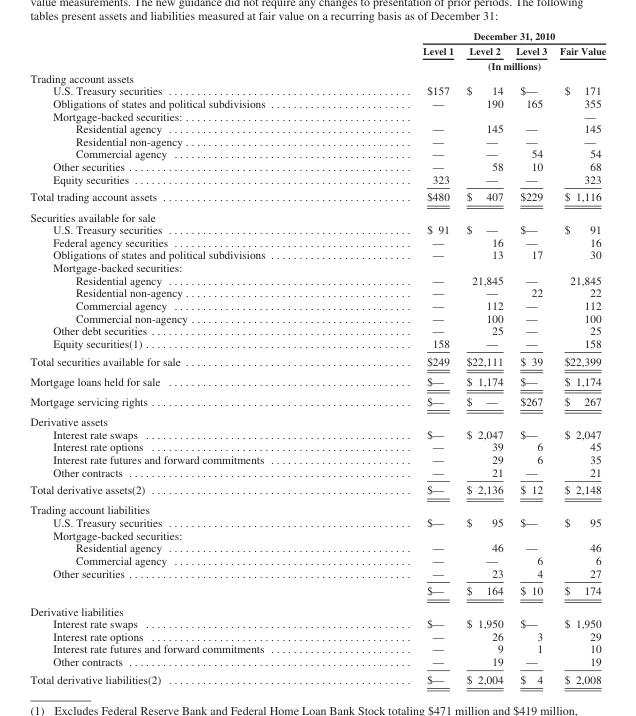table: (29, 29, 605, 685)
table column: (29, 29, 343, 685), (343, 29, 459, 685), (552, 29, 605, 685), (459, 29, 508, 685), (508, 29, 552, 685)
table column header: (29, 29, 605, 71)
table projected row header: (29, 206, 605, 223), (29, 411, 605, 427), (29, 499, 605, 515), (29, 600, 605, 616), (29, 71, 605, 84), (29, 260, 605, 273), (29, 528, 605, 541)
table row: (29, 390, 605, 411), (29, 370, 605, 390), (29, 187, 605, 206), (29, 351, 605, 370), (29, 480, 605, 499), (29, 581, 605, 600), (29, 206, 605, 223), (29, 411, 605, 427), (29, 499, 605, 515), (29, 600, 605, 616), (29, 669, 605, 685), (29, 42, 605, 57), (29, 172, 605, 187), (29, 336, 605, 351), (29, 465, 605, 480), (29, 566, 605, 581), (29, 654, 605, 669), (29, 57, 605, 71), (29, 29, 605, 42), (29, 71, 605, 84), (29, 96, 605, 109), (29, 121, 605, 134), (29, 134, 605, 147), (29, 159, 605, 172), (29, 235, 605, 248), (29, 260, 605, 273), (29, 273, 605, 286), (29, 298, 605, 311), (29, 311, 605, 324), (29, 427, 605, 440), (29, 452, 605, 465), (29, 515, 605, 528), (29, 528, 605, 541), (29, 553, 605, 566), (29, 616, 605, 629), (29, 629, 605, 642), (29, 84, 605, 96), (29, 109, 605, 121), (29, 147, 605, 159), (29, 223, 605, 235), (29, 248, 605, 260), (29, 286, 605, 298), (29, 324, 605, 336), (29, 440, 605, 452), (29, 541, 605, 553), (29, 642, 605, 654)
table spanning cell: (343, 57, 605, 71), (343, 29, 605, 42)
